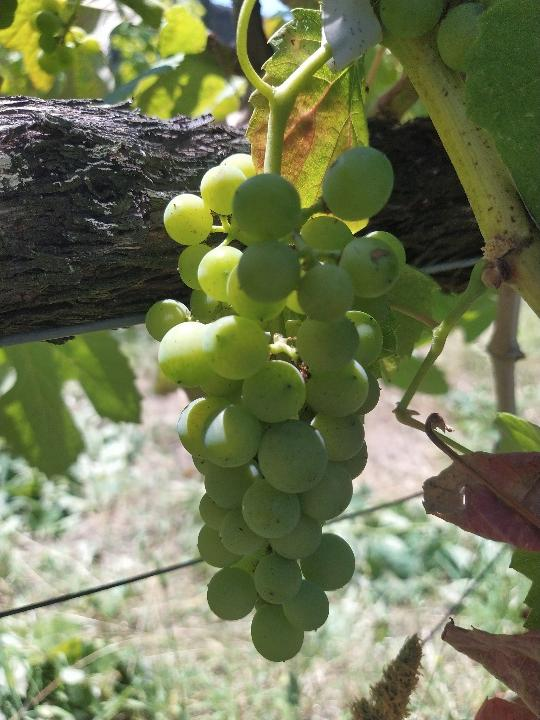grape: (146, 144, 407, 664)
